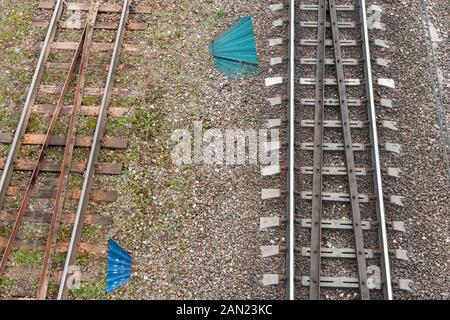Color_steel: (209, 14, 261, 82), (99, 232, 134, 293)
